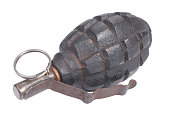e1: (12, 10, 152, 101)
